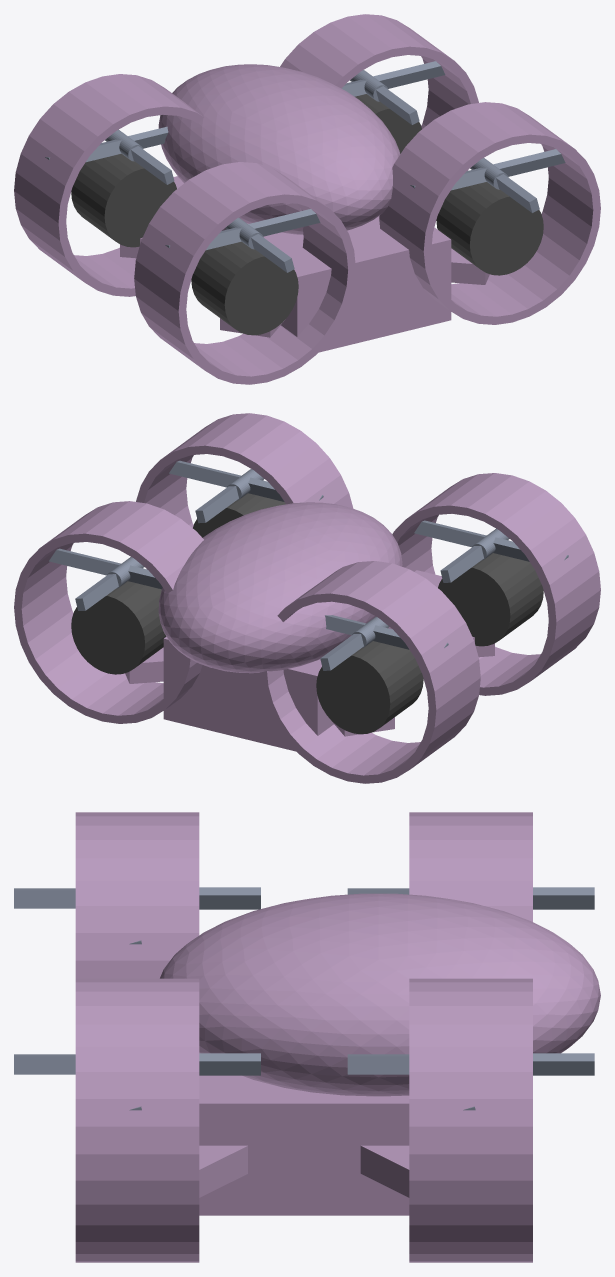
The model's file is Race Whoop.glb.
3 renders of one model, top to bottom at view 1: azimuth 30°, elevation 25°; view 2: azimuth 150°, elevation 25°; view 3: azimuth 270°, elevation 25°, orthographic. The views are drawn at different scales.
Parts seen in each view (by area): view 1: canopy, duct_0, duct_2, duct_3, frame_body, duct_1, motor_2, motor_0, motor_3, prop_0, prop_2, prop_1 (+3 smaller); view 2: canopy, duct_3, duct_1, duct_2, duct_0, frame_body, motor_3, motor_1, motor_2, prop_0, prop_2, prop_1 (+3 smaller); view 3: canopy, duct_0, duct_1, frame_body, duct_2, duct_3, prop_1, prop_2, prop_0, arm_1, arm_0, prop_3.
Part boxes in pixels (x1,y1,x2,y2): canopy: [158, 64, 400, 234]; duct_0: [379, 102, 600, 324]; duct_2: [134, 162, 355, 384]; duct_3: [14, 74, 203, 296]; frame_body: [173, 176, 451, 352]; duct_1: [280, 14, 478, 170]; motor_2: [191, 241, 298, 335]; motor_0: [436, 182, 543, 275]; motor_3: [71, 153, 176, 247]; prop_0: [410, 149, 565, 212]; prop_2: [165, 209, 320, 272]; prop_1: [342, 61, 445, 124]; canopy: [158, 502, 402, 673]; duct_3: [259, 561, 480, 783]; duct_1: [14, 501, 203, 723]; duct_2: [392, 473, 600, 695]; duct_0: [136, 413, 353, 569]; frame_body: [163, 570, 442, 751]; motor_3: [316, 641, 423, 734]; motor_1: [71, 581, 166, 674]; motor_2: [438, 553, 543, 646]; prop_0: [169, 460, 323, 523]; prop_2: [414, 520, 568, 582]; prop_1: [49, 548, 162, 610]; canopy: [160, 893, 600, 1096]; duct_0: [75, 978, 199, 1262]; duct_1: [409, 978, 532, 1262]; frame_body: [199, 1075, 409, 1215]; duct_2: [75, 812, 199, 978]; duct_3: [409, 812, 532, 921]; prop_1: [347, 1053, 594, 1110]; prop_2: [14, 887, 260, 944]; prop_0: [14, 1053, 260, 1110]; arm_1: [360, 1145, 409, 1197]; arm_0: [199, 1145, 247, 1197]; prop_3: [347, 887, 594, 909].
Size of the model in its own units: 0.1096 by 0.046 by 0.095.
